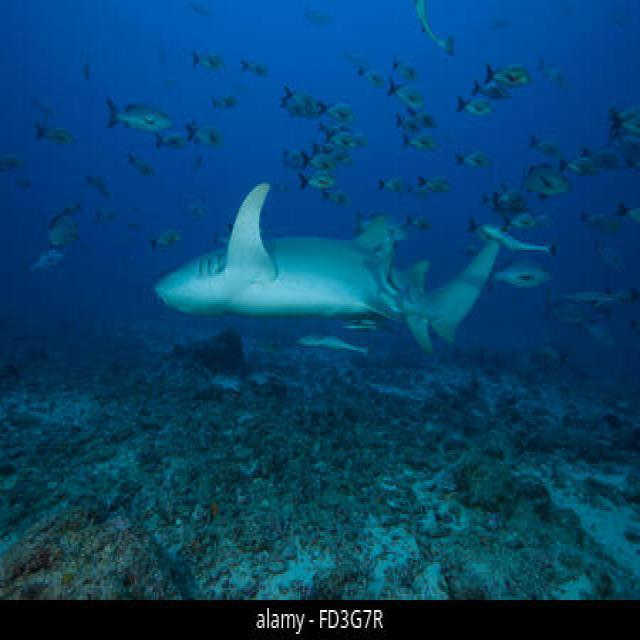Shark: (143, 146, 554, 378)
